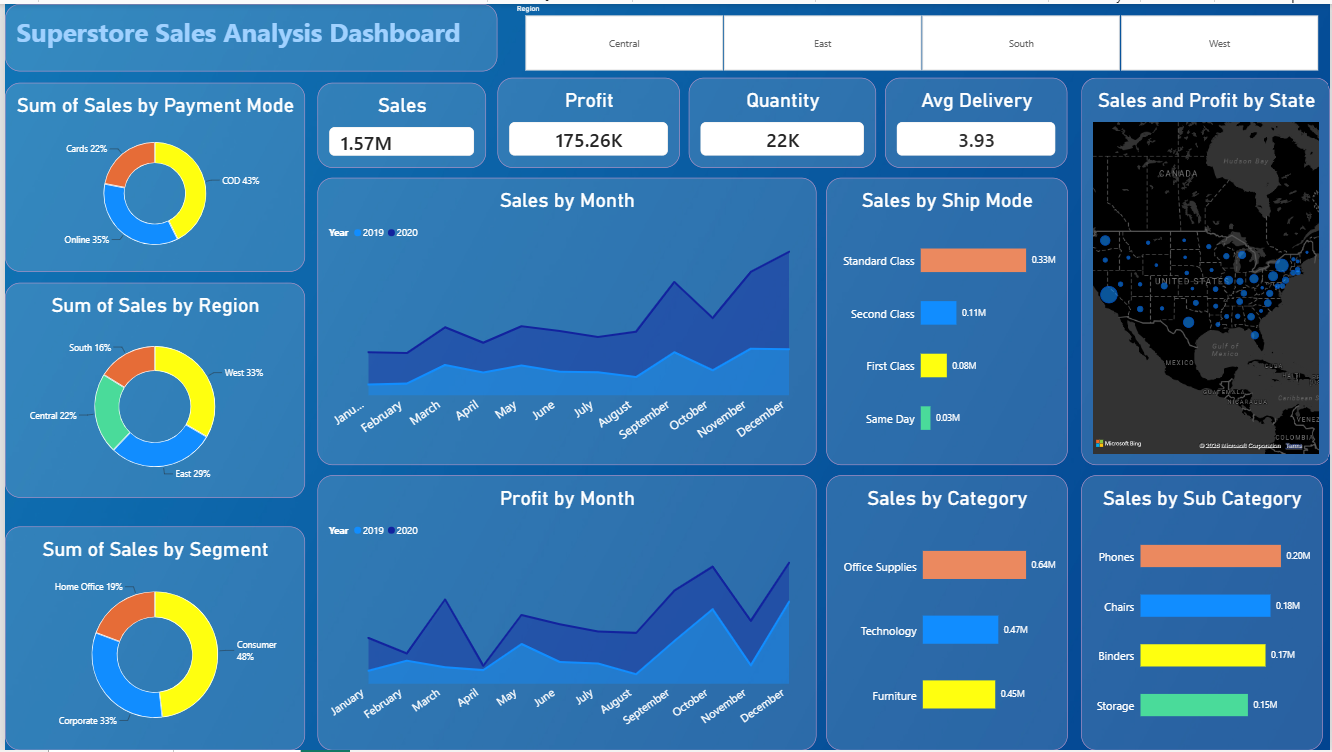

This screenshot's page, from the dashboard's own definition file:
{"tool":"powerbi","page":{"name":"Dashboard","canvas":[1920,1080],"ordinal":0},"visuals":[{"type":"clusteredBarChart","title":"Sales by Category","fields":{"Category":["SuperStore_Sales_Dataset.Category"],"Y":["Sum(SuperStore_Sales_Dataset.Sales)"]},"box":[1188.9,682.2,349.3,398.1],"z":0},{"type":"clusteredBarChart","title":"Sales by Sub Category","fields":{"Category":["SuperStore_Sales_Dataset.Sub-Category"],"Y":["Sum(SuperStore_Sales_Dataset.Sales)"]},"box":[1558.1,682.2,349.3,398.1],"z":1000},{"type":"stackedAreaChart","title":"Sales by Month","fields":{"Category":["SuperStore_Sales_Dataset.Order Date.Variation.Date Hierarchy.Month","SuperStore_Sales_Dataset.Order Date.Variation.Date Hierarchy.Day"],"Series":["SuperStore_Sales_Dataset.Order Date.Variation.Date Hierarchy.Year"],"Y":["Sum(SuperStore_Sales_Dataset.Sales)"]},"box":[452.4,251.5,722.1,416.2],"z":2000},{"type":"clusteredBarChart","title":"Sales by Ship Mode","fields":{"Category":["SuperStore_Sales_Dataset.Ship Mode"],"Y":["Sum(SuperStore_Sales_Dataset.Sales)"]},"box":[1188.9,251.5,349.3,416.2],"z":3000},{"type":"stackedAreaChart","title":"Profit by Month","fields":{"Category":["SuperStore_Sales_Dataset.Order Date.Variation.Date Hierarchy.Month","SuperStore_Sales_Dataset.Order Date.Variation.Date Hierarchy.Day"],"Series":["SuperStore_Sales_Dataset.Order Date.Variation.Date Hierarchy.Year"],"Y":["Sum(SuperStore_Sales_Dataset.Profit)"]},"box":[452.4,682.2,722.1,398.1],"z":4000},{"type":"map","title":"Sales and Profit by State","fields":{"Category":["SuperStore_Sales_Dataset.State"],"Size":["Sum(SuperStore_Sales_Dataset.Sales)"]},"box":[1558.1,106.8,361.9,561],"z":5000},{"type":"donutChart","fields":{"Category":["SuperStore_Sales_Dataset.Segment"],"Y":["Sum(SuperStore_Sales_Dataset.Sales)"]},"box":[0,756.4,434.3,323.9],"z":6000},{"type":"donutChart","fields":{"Category":["SuperStore_Sales_Dataset.Payment Mode"],"Y":["Sum(SuperStore_Sales_Dataset.Sales)"]},"box":[0,114,434.3,273.3],"z":7000},{"type":"slicer","fields":{"Values":["SuperStore_Sales_Dataset.Region"]},"box":[732.9,0,1187.1,97.7],"z":8000},{"type":"textbox","box":[0,0,713,97.7],"z":9000},{"type":"cardVisual","title":"Sales","fields":{"Data":["Sum(SuperStore_Sales_Dataset.Sales)"]},"box":[452.4,114,244.3,123.1],"z":10000},{"type":"cardVisual","title":"Profit ","fields":{"Data":["Sum(SuperStore_Sales_Dataset.Profit)"]},"box":[713,106.8,264.2,130.3],"z":11000},{"type":"cardVisual","title":"Quantity","fields":{"Data":["Sum(SuperStore_Sales_Dataset.Quantity)"]},"box":[989.9,106.8,271.4,130.3],"z":12000},{"type":"donutChart","fields":{"Category":["SuperStore_Sales_Dataset.Region"],"Y":["Sum(SuperStore_Sales_Dataset.Sales)"]},"box":[0,405.4,434.3,331.2],"z":13000},{"type":"cardVisual","title":"Avg Delivery","fields":{"Data":["Avg(SuperStore_Sales_Dataset.AvgDelivery)"]},"box":[1274,106.8,264.2,130.3],"z":14000}]}

Visuals, with their boxes in screenshot pixels (x1, y1, x2, y2), scaled from the page's 1920x1080 canvas onto the 1332x752 screenshot:
"Sales by Category" clusteredBarChart: x1=825, y1=475, x2=1067, y2=751
"Sales by Sub Category" clusteredBarChart: x1=1081, y1=475, x2=1323, y2=751
"Sales by Month" stackedAreaChart: x1=314, y1=175, x2=815, y2=465
"Sales by Ship Mode" clusteredBarChart: x1=825, y1=175, x2=1067, y2=465
"Profit by Month" stackedAreaChart: x1=314, y1=475, x2=815, y2=751
"Sales and Profit by State" map: x1=1081, y1=74, x2=1331, y2=465
donutChart - SuperStore_Sales_Dataset.Segment x Sum(SuperStore_Sales_Dataset.Sales): x1=0, y1=527, x2=301, y2=751
donutChart - SuperStore_Sales_Dataset.Payment Mode x Sum(SuperStore_Sales_Dataset.Sales): x1=0, y1=79, x2=301, y2=270
slicer - SuperStore_Sales_Dataset.Region: x1=508, y1=0, x2=1331, y2=68
textbox: x1=0, y1=0, x2=495, y2=68
"Sales" cardVisual: x1=314, y1=79, x2=483, y2=165
"Profit " cardVisual: x1=495, y1=74, x2=678, y2=165
"Quantity" cardVisual: x1=687, y1=74, x2=875, y2=165
donutChart - SuperStore_Sales_Dataset.Region x Sum(SuperStore_Sales_Dataset.Sales): x1=0, y1=282, x2=301, y2=513
"Avg Delivery" cardVisual: x1=884, y1=74, x2=1067, y2=165
